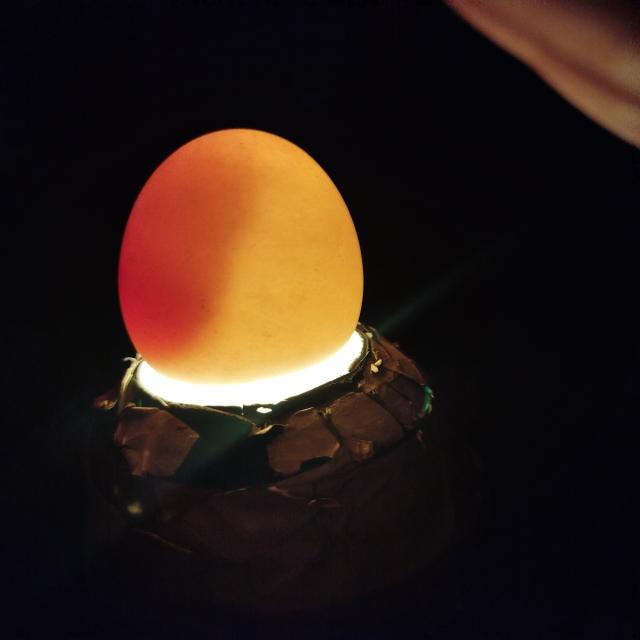Gema Quebrada: (118, 129, 253, 360)
